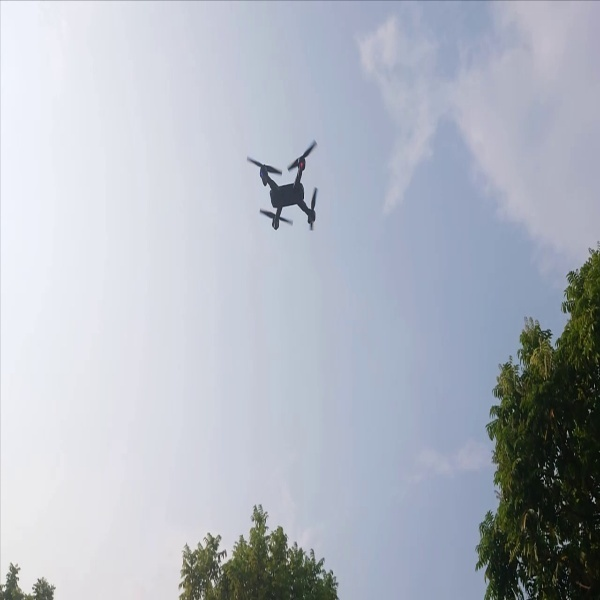drone: (234, 139, 333, 242)
